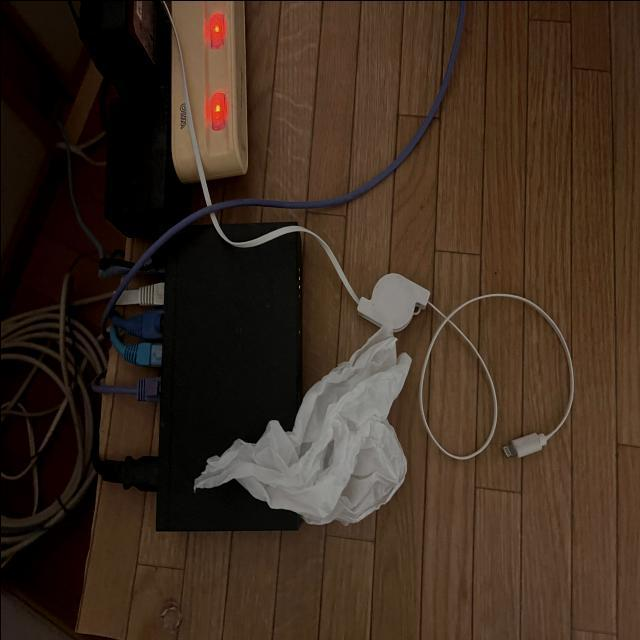Paper: (200, 261, 434, 533)
